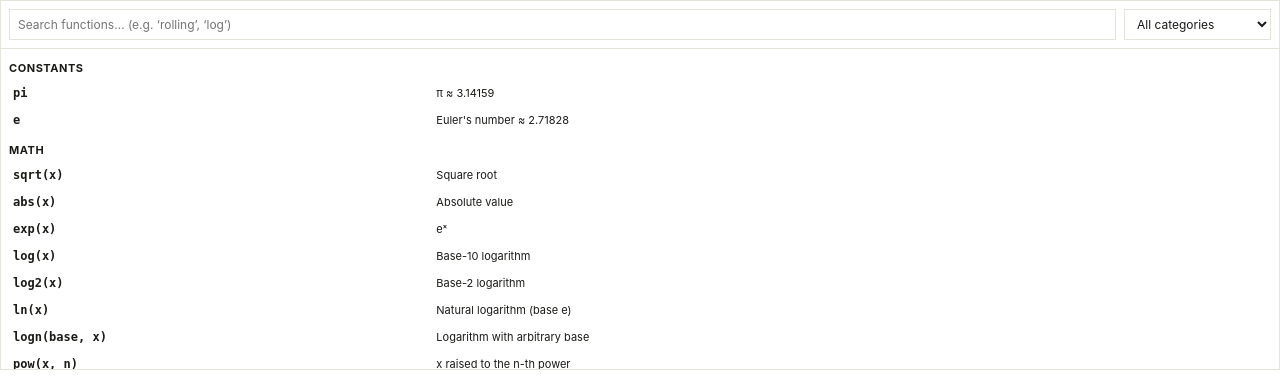
it: FormulaReference › filters items by a text search query
This screenshot has width=1280, height=387.
Type "rolling" into the search field with placeholder "Search functions… (e.g. ‘rolling’, ‘log’)" at [562, 24], box [9,9,1116,40]
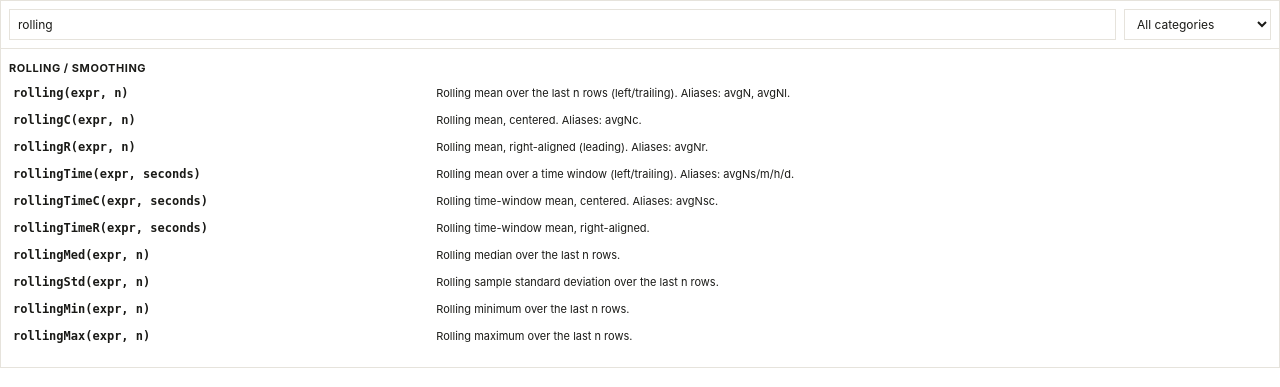
Expected: the heading "Math" is gone
Expected: the heading "Rolling / smoothing" is shown, [9,61,146,75]
